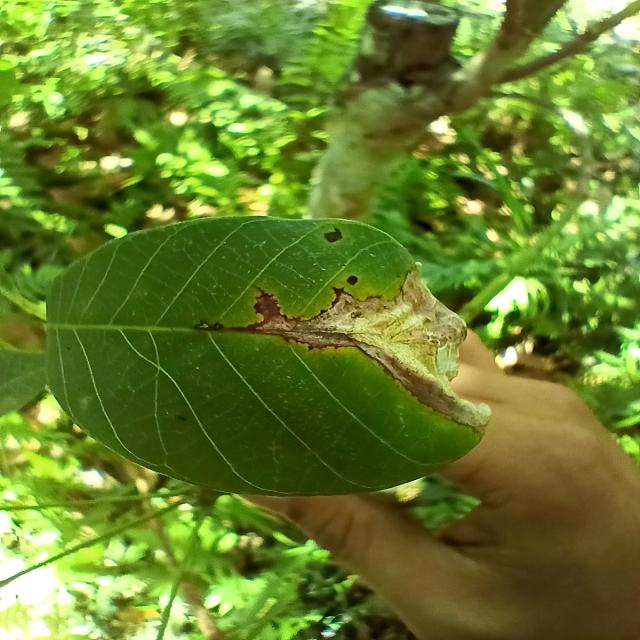Colletotrichum: (346, 276, 358, 286)
Corynespora: (192, 319, 258, 334), (250, 284, 280, 316)
Leaf-Blight: (258, 268, 492, 433)
